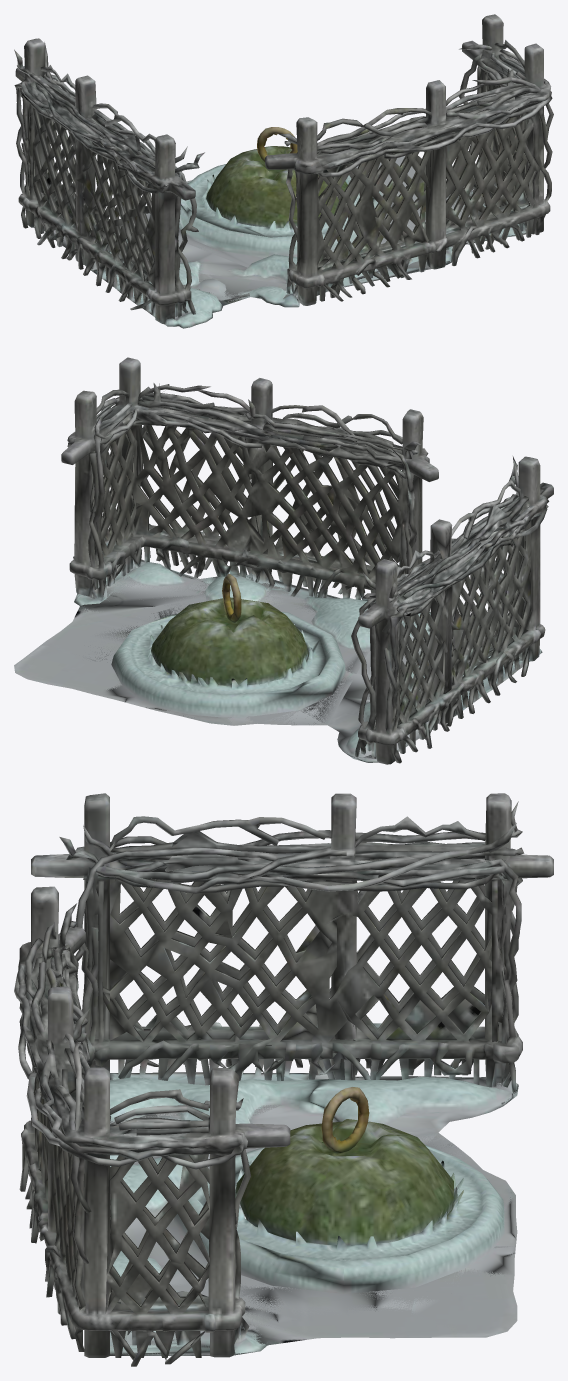
File: lm_hedge_gate.glb
3 renders of one model, top to bottom at view 1: azimuth 30°, elevation 25°; view 2: azimuth 150°, elevation 25°; view 3: azimuth 270°, elevation 25°, orthographic. The views are drawn at different scales.
Parts seen in each view (by area): view 1: lm_hedge_gate-col; view 2: lm_hedge_gate-col; view 3: lm_hedge_gate-col.
Part boxes in pixels (box(x1,y1,x2,y2)): lm_hedge_gate-col: box(14, 14, 553, 328); lm_hedge_gate-col: box(14, 357, 553, 764); lm_hedge_gate-col: box(14, 793, 553, 1366).
Size of the model in its own units: 4 by 1.73 by 3.
1 material, 1 textured.
